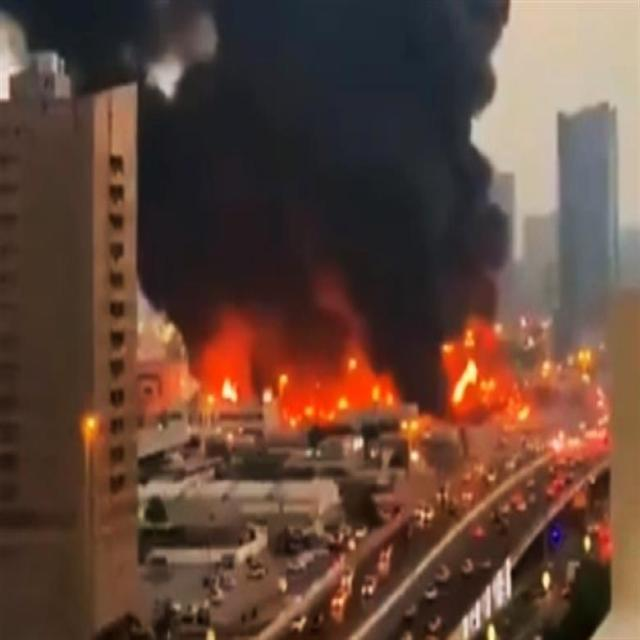Fire: (286, 368, 394, 423), (451, 360, 479, 402), (216, 376, 238, 404), (516, 404, 532, 421)
Smoke: (383, 2, 516, 309)
